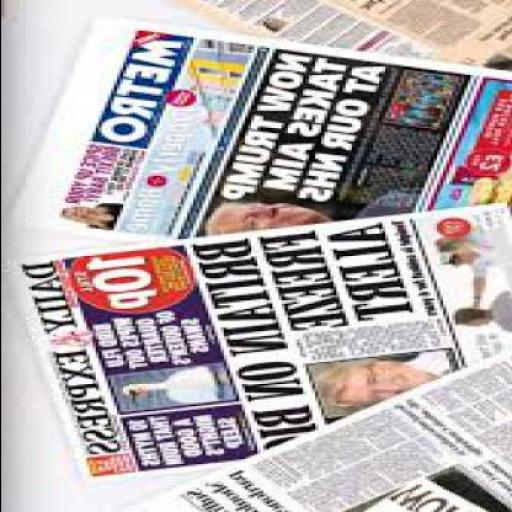paper: (9, 204, 509, 480), (21, 17, 509, 234), (128, 350, 510, 510), (180, 0, 510, 69)
